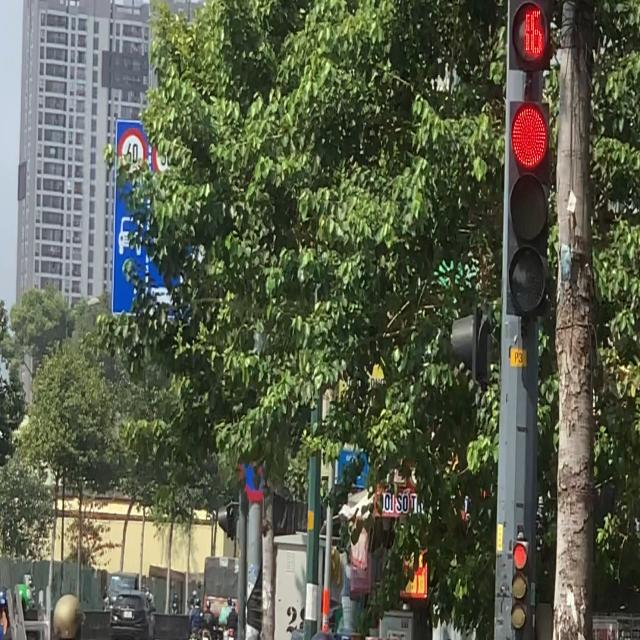Toc do toi da: (118, 128, 148, 181)
